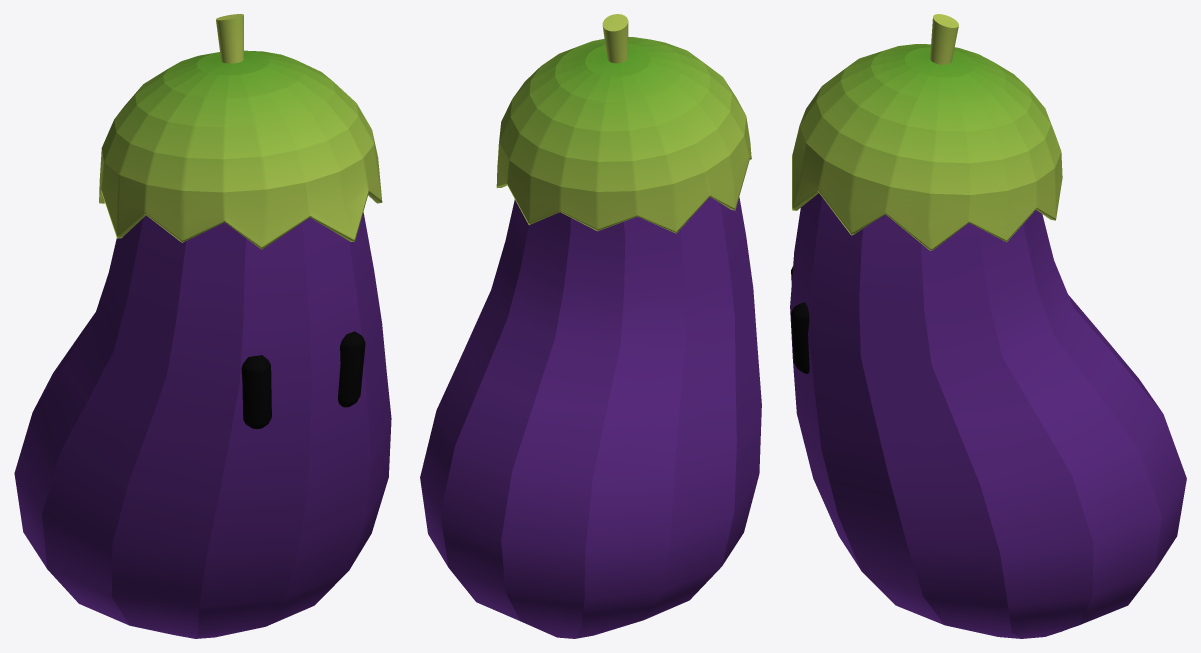
The model's file is Eggplant.fbx.
The picture shows the model from 3 angles, left to right: view 1: azimuth 30°, elevation 25°; view 2: azimuth 150°, elevation 25°; view 3: azimuth 270°, elevation 25°; orthographic projection. The views are drawn at different scales.
Parts seen in each view (by area): view 1: aubergine; view 2: aubergine; view 3: aubergine.
Boxes of the visible parts, left/top/right/bottom form: aubergine: left=14, top=14, right=391, bottom=638; aubergine: left=420, top=14, right=761, bottom=638; aubergine: left=790, top=14, right=1186, bottom=638.
Bounding box in the file's own units: 1.39 × 2.66 × 1.57.
